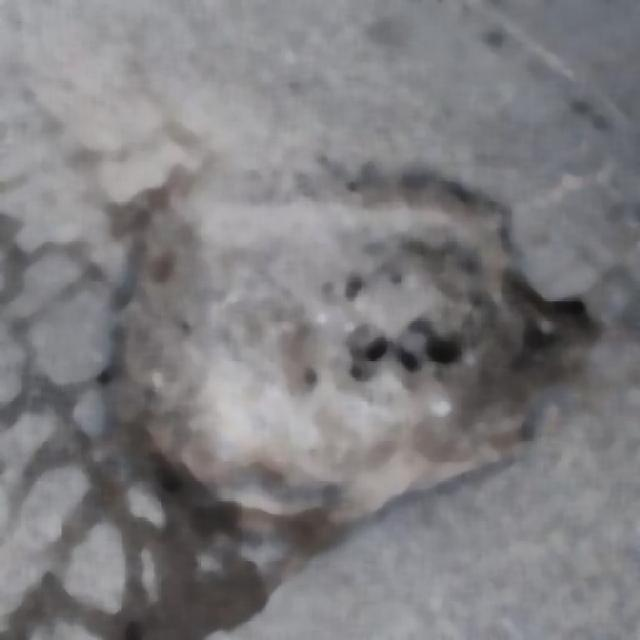Pothole: (116, 174, 575, 498)
